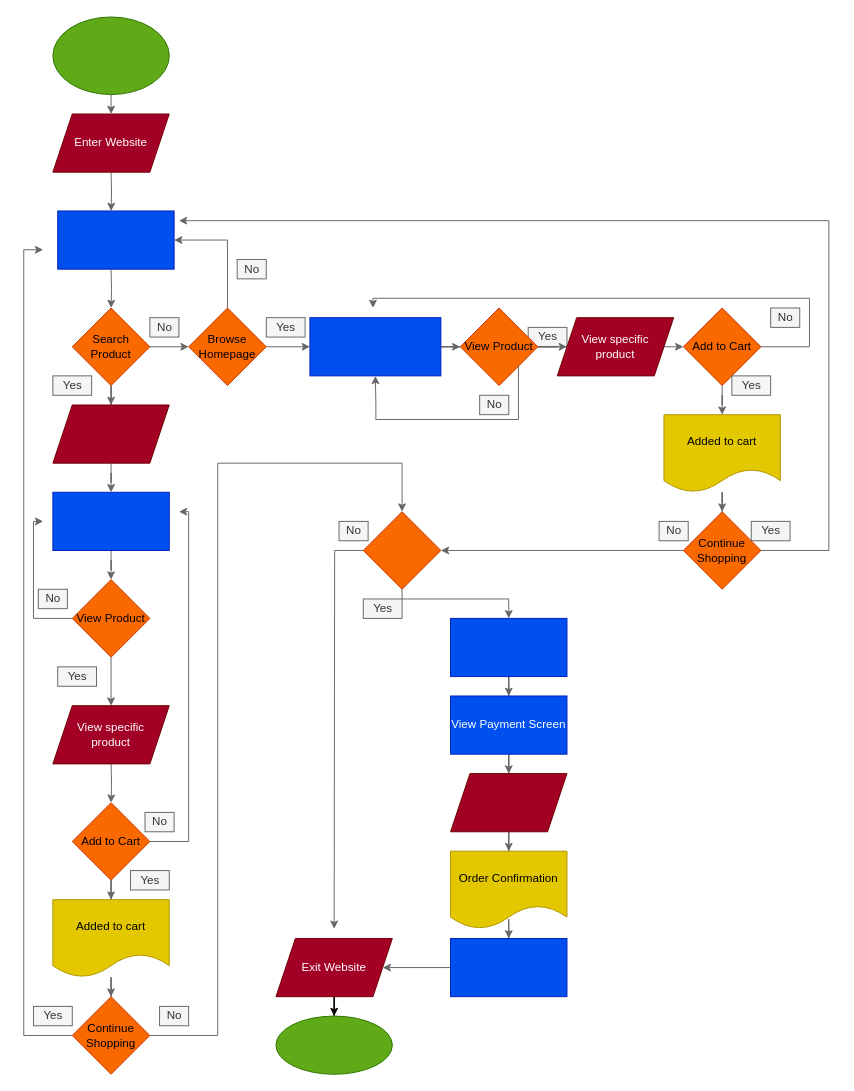
Some shapes in this 854 by 1091 pixel diagram are drawn without their labels. Here are the shapes that lost their labels. From the top down, the centre of each, then its label:
At (110,55): "Start".
At (115,239): "Browse Options".
At (375,346): "Look Over Products".
At (110,433): "Input prdouct Info".
At (110,520): "Look Over Searched Products".
At (401,550): "Checkout".
At (508,647): "View Cart".
At (508,802): "Input payment Info".
At (508,967): "Email Recepit Sent".
At (333,1044): "End".
